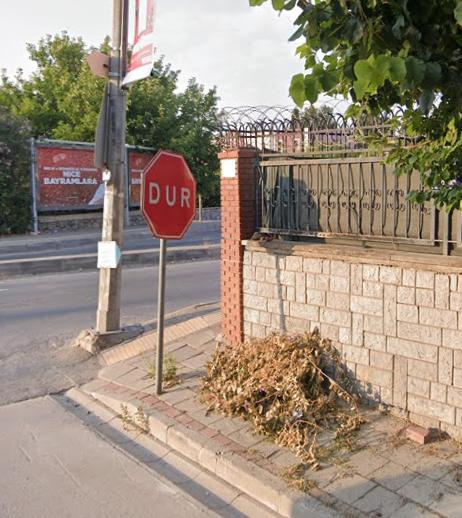stop: (145, 151, 196, 235)
